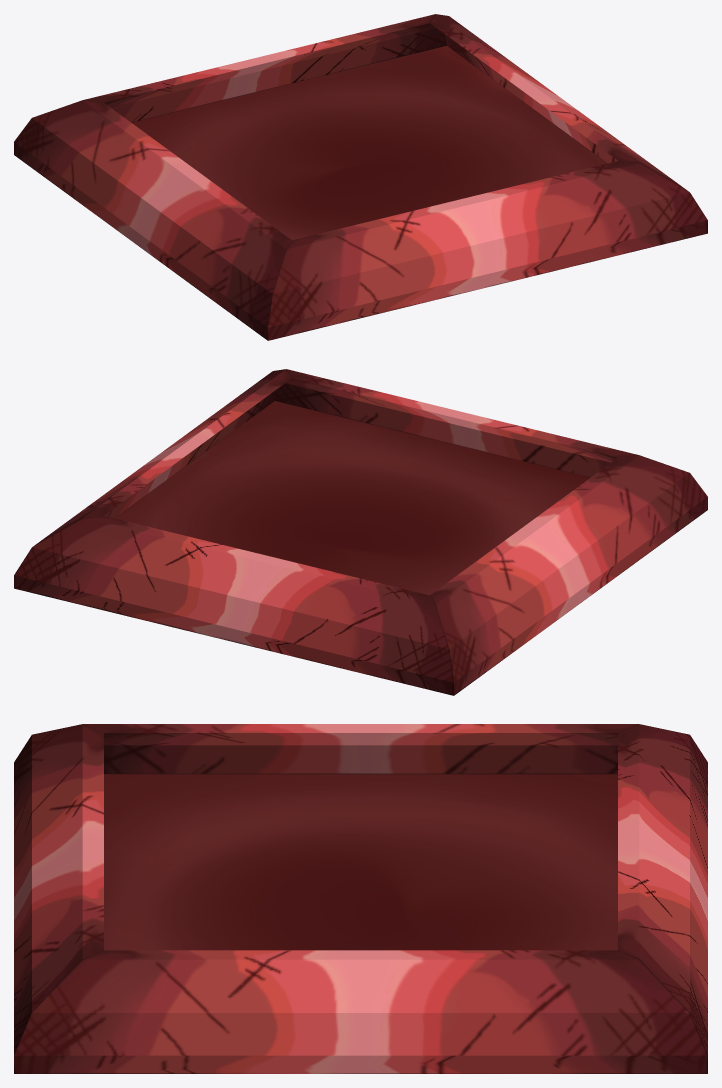
The model's file is FanShell.fbx.
The picture shows the model from 3 angles, top to bottom: view 1: azimuth 30°, elevation 25°; view 2: azimuth 150°, elevation 25°; view 3: azimuth 270°, elevation 25°; orthographic projection. The views are drawn at different scales.
Visible parts, largest first — view 1: FanShell; view 2: FanShell; view 3: FanShell.
Part boxes in pixels (x1,y1,x2,y2): FanShell: (14, 14, 707, 340); FanShell: (14, 369, 707, 695); FanShell: (14, 724, 707, 1073).
Bounding box in the file's own units: 230 × 31.3 × 230.
1 material, 1 textured.
